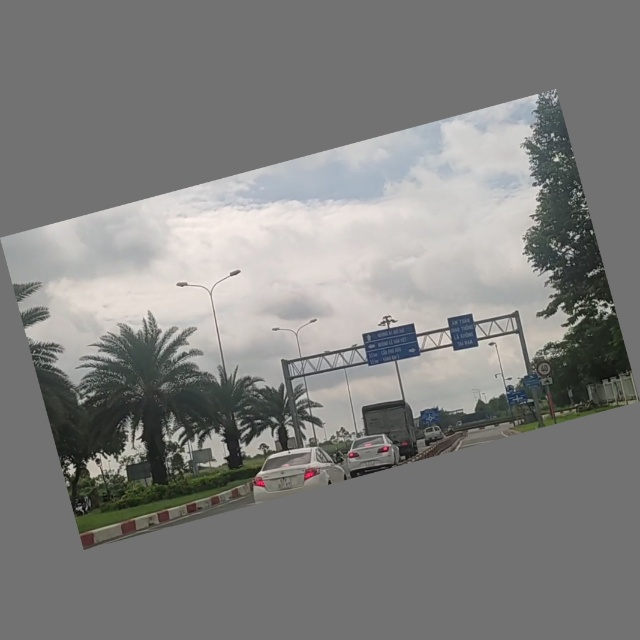P.127*40: (533, 358, 553, 378)
S.505a*Xe may: (540, 375, 555, 389)
